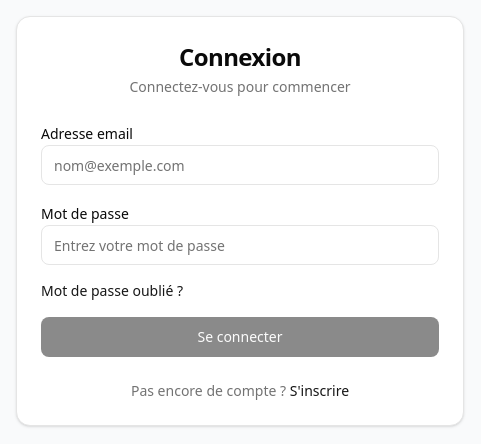
Login Component › devrait activer le bouton quand le formulaire est valide
This screenshot has width=481, height=444.
// Remplir tous les champs requis
Type "test@exemple.com" into the field labelled "Adresse email" at coordinates (240, 165), box [41,145,439,185]
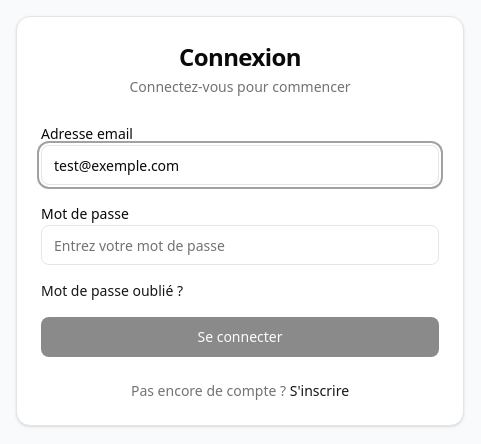
Type "Password123!" into the password field labelled "Mot de passe" at coordinates (240, 245), box [41,225,439,265]
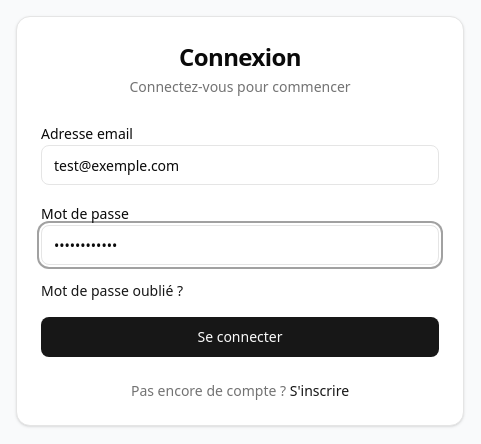
Now the button "Se connecter" is enabled, box [41,317,439,357]
